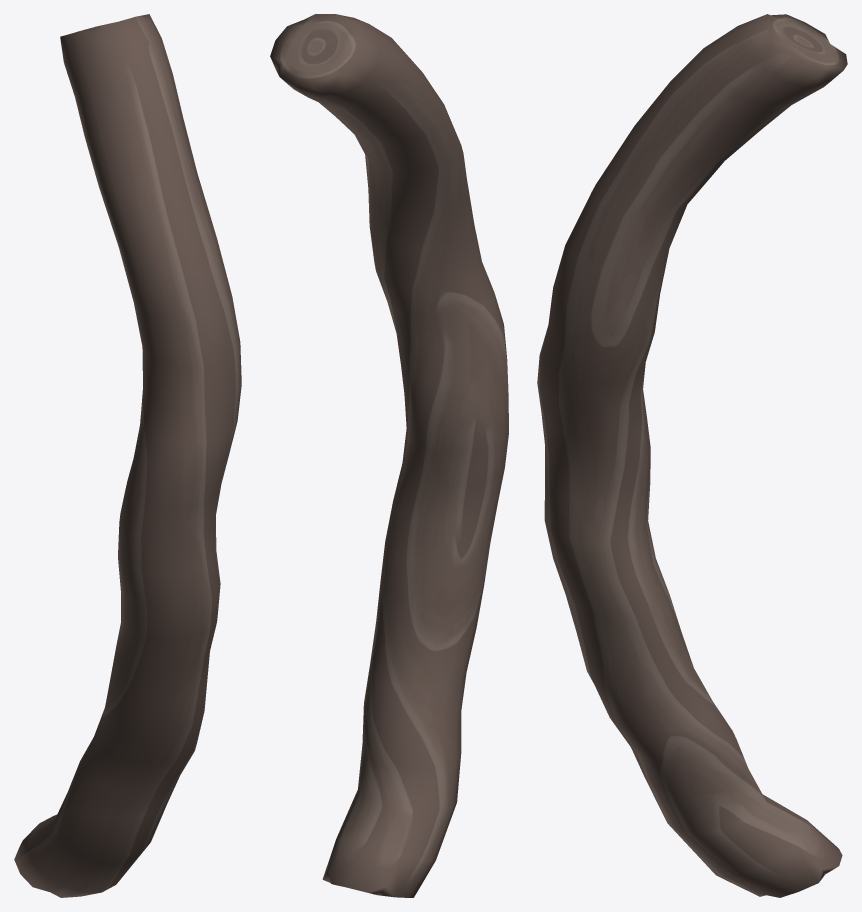
Rendered from MineBeam3.fbx.
3 views of the same model, side by side, from view 1: azimuth 30°, elevation 25°; view 2: azimuth 150°, elevation 25°; view 3: azimuth 270°, elevation 25° (orthographic). The views are drawn at different scales.
Parts seen in each view (by area): view 1: MineBeam3; view 2: MineBeam3; view 3: MineBeam3.
Part boxes in pixels (box(x1,y1,x2,y2)): MineBeam3: box(14, 14, 241, 897); MineBeam3: box(270, 14, 508, 897); MineBeam3: box(537, 14, 847, 897).
Size of the model in its own units: 44.99 by 275 by 86.51.
1 material, 1 textured.
